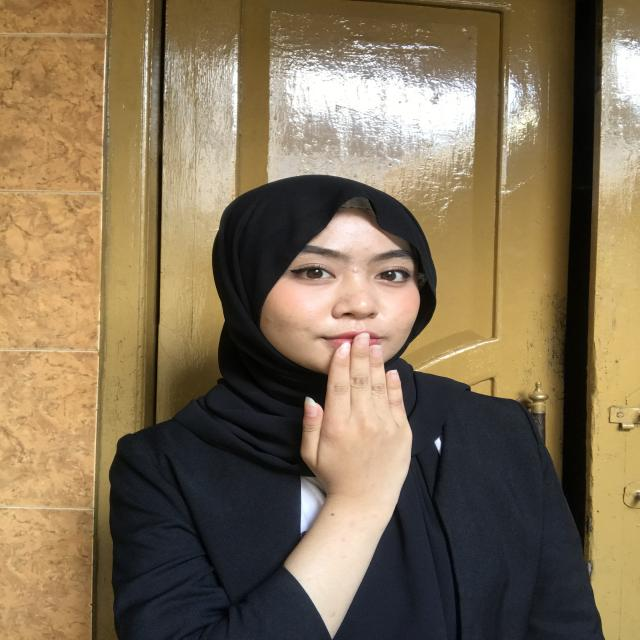ganteng: (274, 322, 436, 494)
